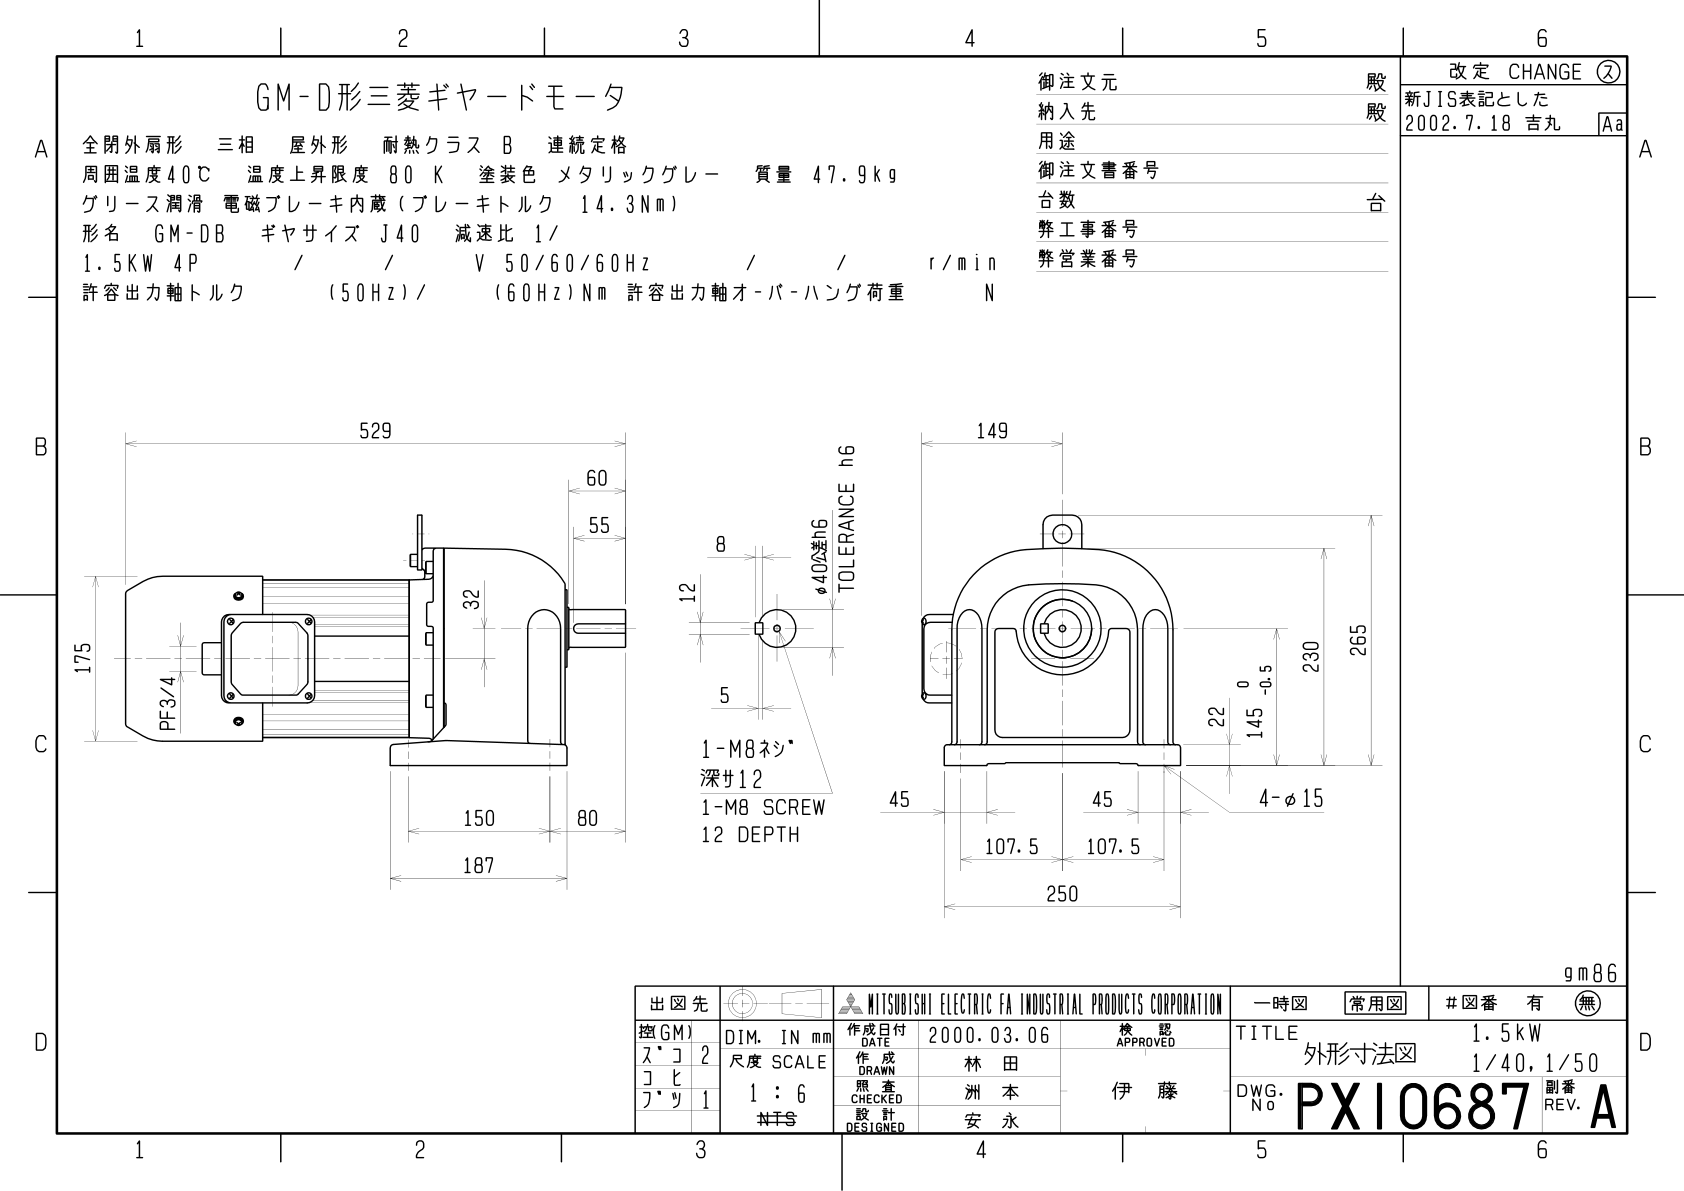GM_D_屋外＿三相_脚: (64, 365, 1395, 971)
